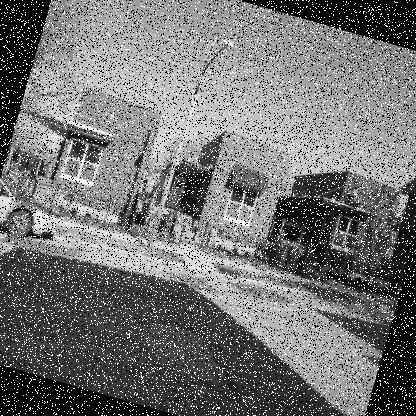Car: (0, 171, 67, 250)
